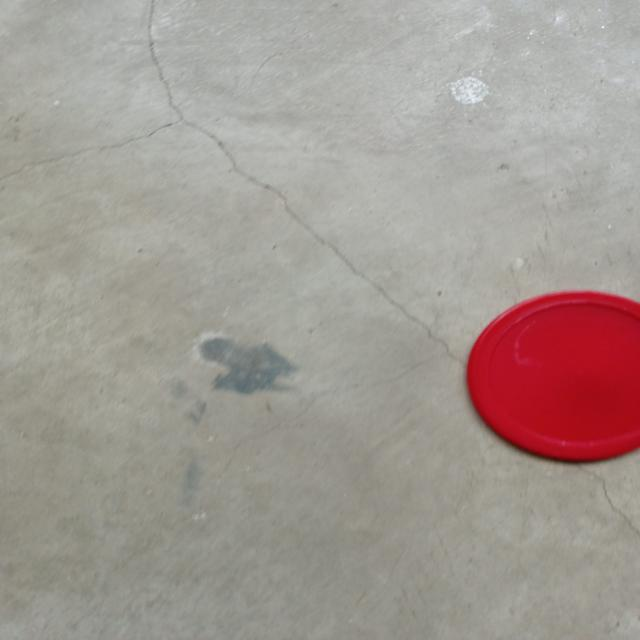chip: (462, 290, 640, 462)
